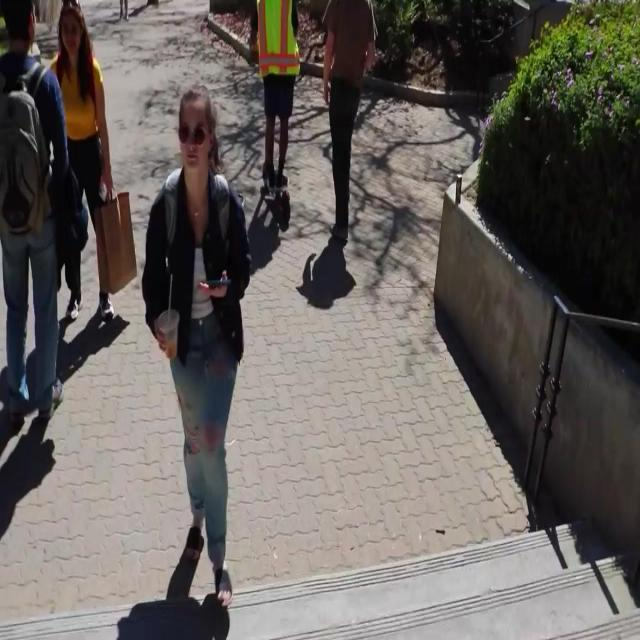reflective_jacket: (252, 1, 304, 87)
safety_helmet: (54, 1, 90, 25)
